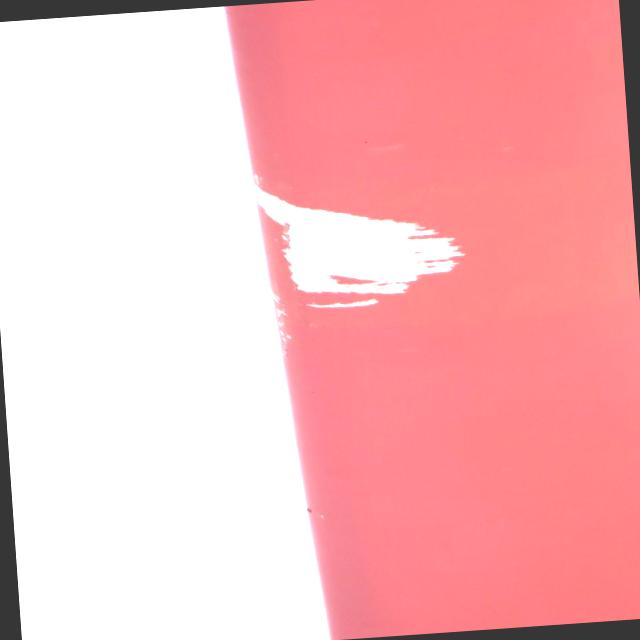surface_peeling: (254, 168, 472, 325)
